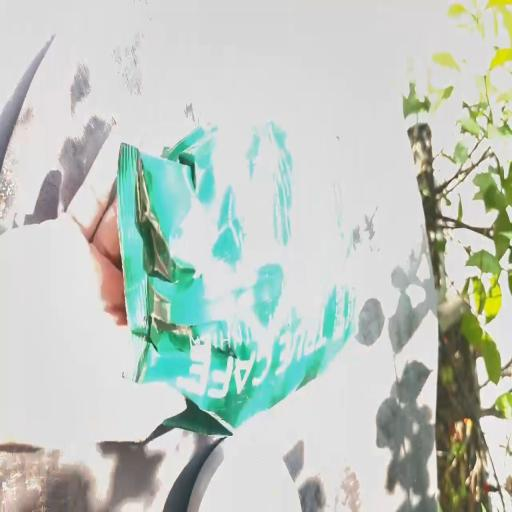cafe_xay: (118, 121, 357, 434)
